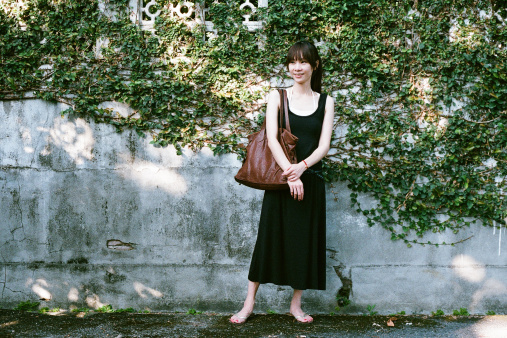em pe: (241, 38, 335, 336)
